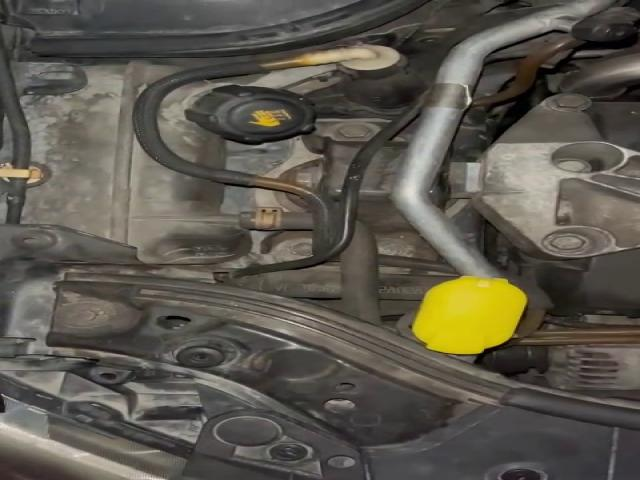antifreeze_tank: (22, 64, 245, 263), (159, 82, 316, 167)
